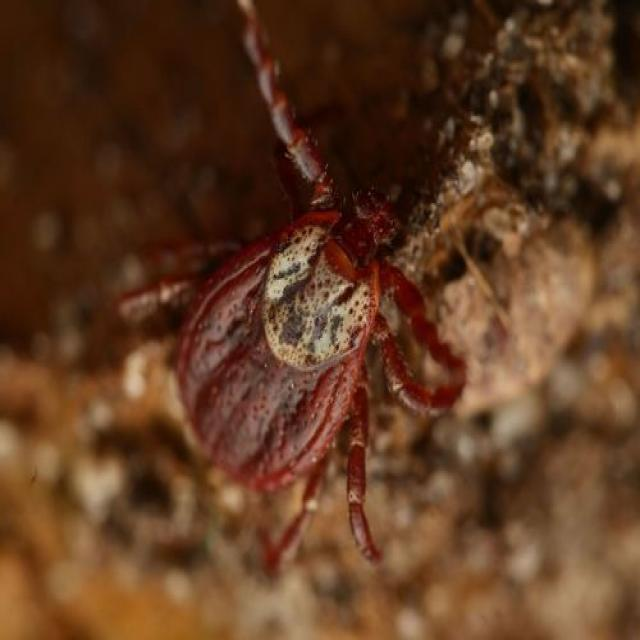Dermacentor Reticulatus-F: (116, 0, 466, 575)
